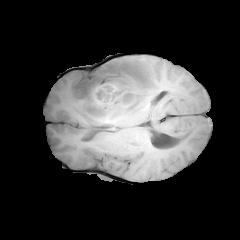glioma: (73, 56, 160, 129)
